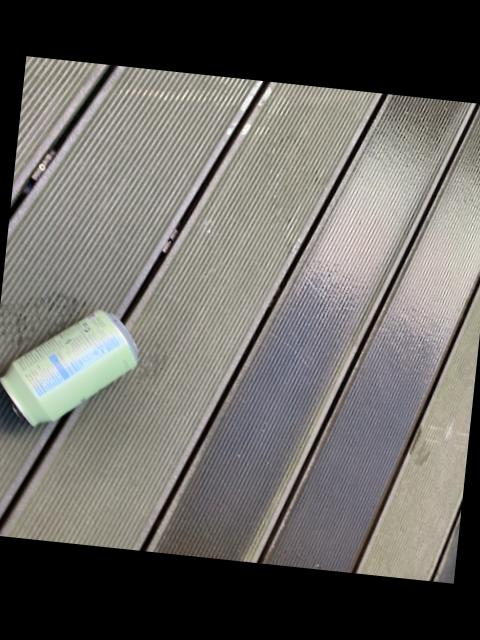metal: (0, 311, 135, 425)
